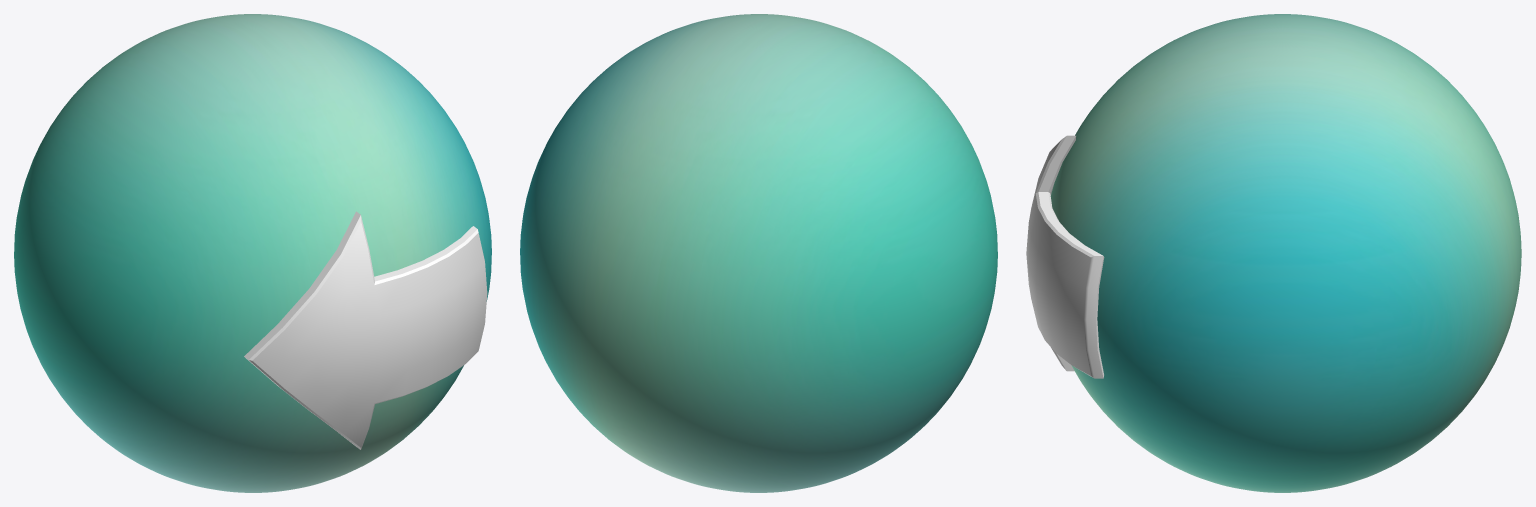
Rendered from Ball.fbx.
The picture shows the model from 3 angles, left to right: view 1: azimuth 30°, elevation 25°; view 2: azimuth 150°, elevation 25°; view 3: azimuth 270°, elevation 25°; orthographic projection.
Visible parts, largest first — view 1: Ball; view 2: Ball; view 3: Ball.
Part boxes in pixels (left/top/right/bottom): Ball: left=14, top=14, right=491, bottom=492; Ball: left=520, top=14, right=997, bottom=492; Ball: left=1026, top=14, right=1521, bottom=492.
Size of the model in its own units: 5.81 by 5.84 by 6.02.
